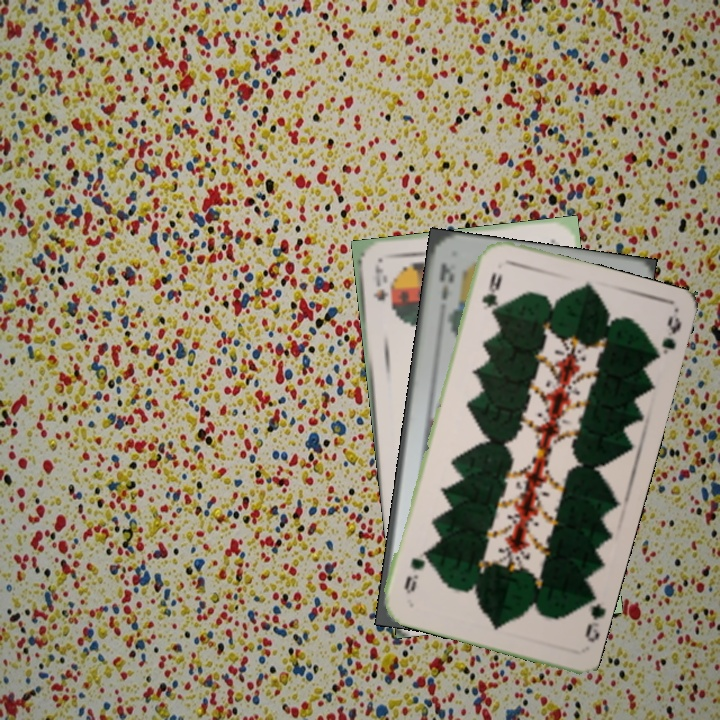EK: (435, 259, 456, 304)
G9: (578, 590, 606, 645), (478, 268, 505, 317)
SO: (369, 263, 391, 304)
